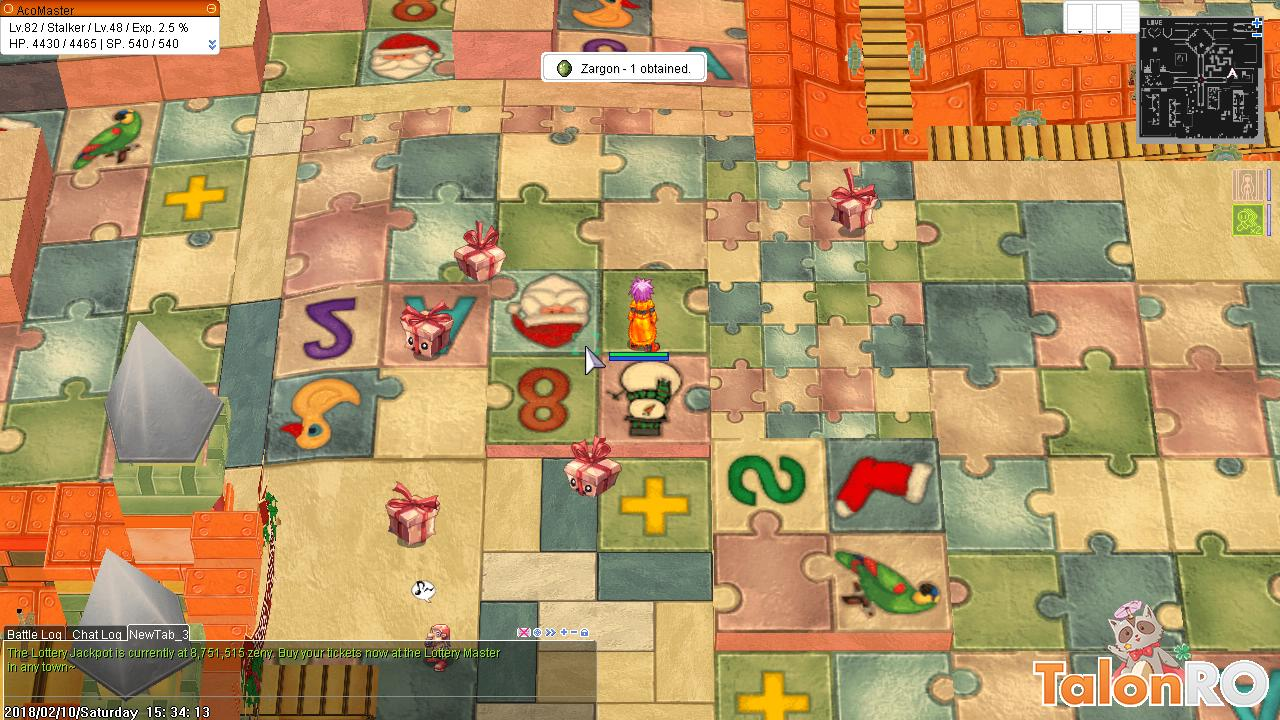myst_case: (381, 480, 446, 553), (451, 215, 513, 287), (396, 299, 458, 369), (563, 431, 621, 502), (827, 165, 882, 237)
